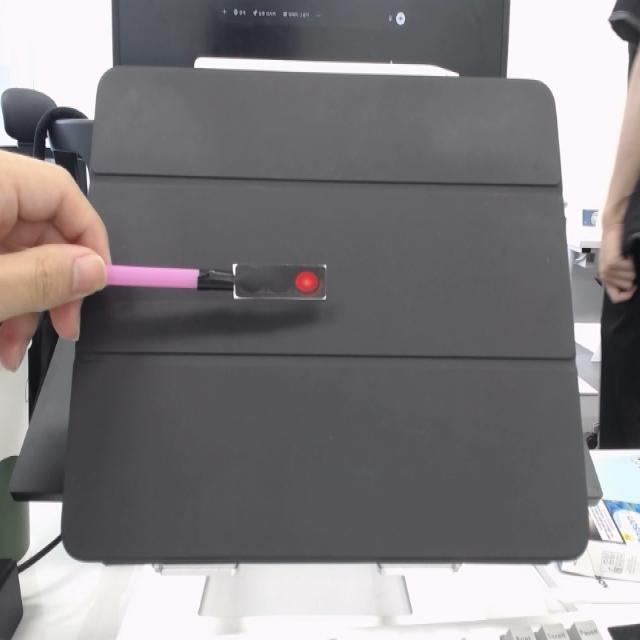traffic light: (226, 261, 329, 304)
